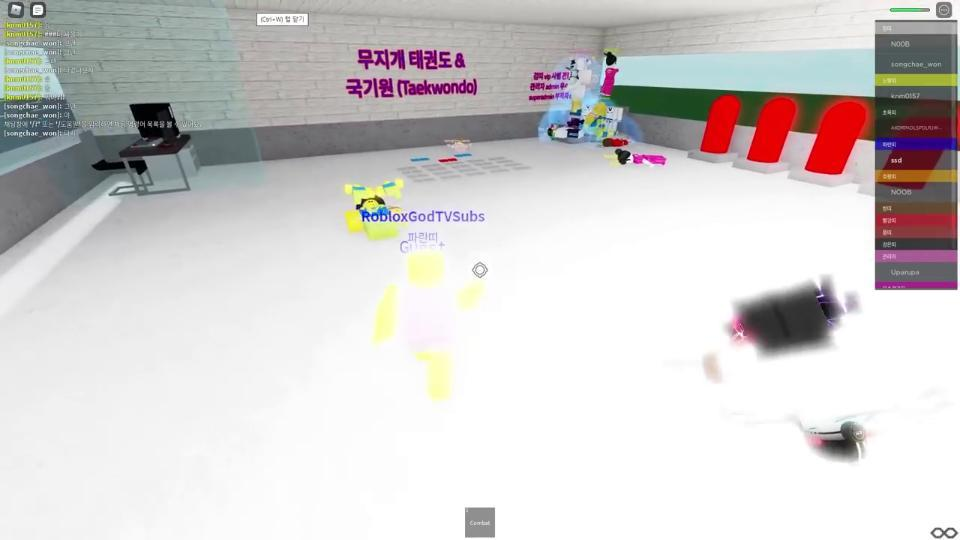Character: (345, 196, 406, 242)
